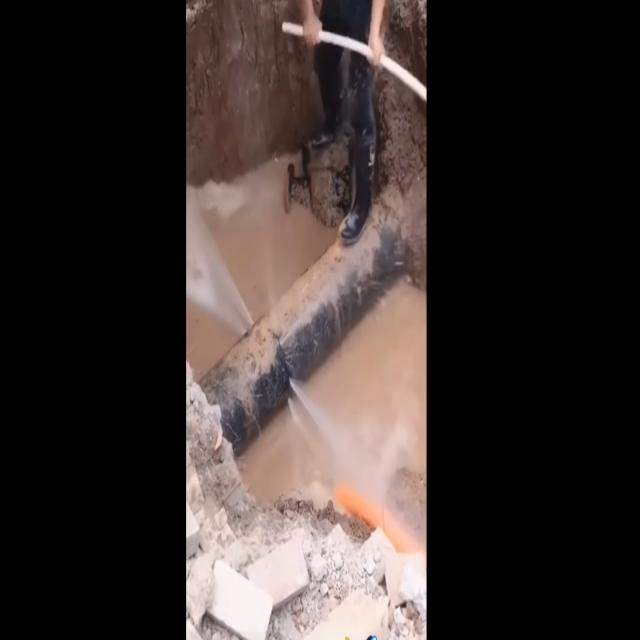leak: (186, 187, 254, 336), (289, 380, 371, 489)
